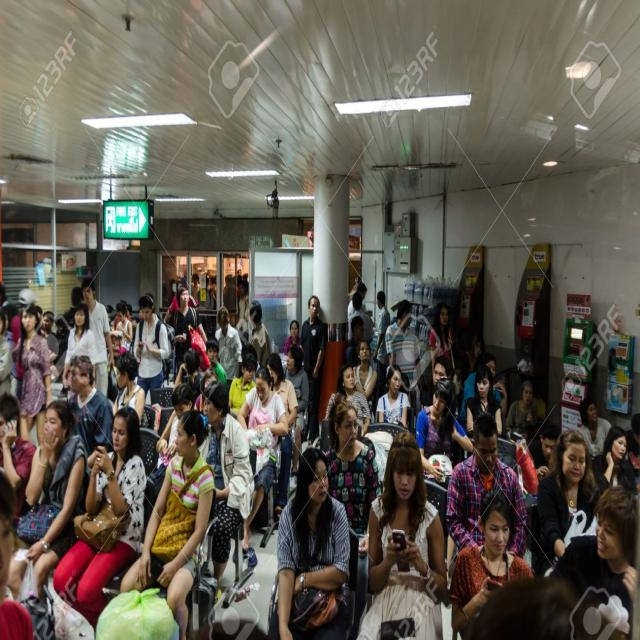body: (118, 408, 216, 639), (51, 404, 148, 631), (356, 429, 449, 640), (264, 444, 352, 640), (9, 398, 89, 602), (322, 394, 382, 640), (546, 482, 639, 640), (447, 486, 539, 640), (445, 411, 528, 558), (197, 379, 252, 590), (234, 364, 287, 556), (534, 429, 602, 577), (468, 556, 571, 639), (264, 351, 300, 523), (160, 266, 251, 329), (0, 472, 34, 640), (66, 354, 116, 467), (0, 389, 39, 528), (415, 376, 462, 491), (16, 302, 53, 446), (384, 298, 422, 431), (132, 290, 175, 406), (81, 276, 116, 403), (167, 283, 210, 386), (300, 294, 327, 450), (284, 342, 310, 492), (155, 381, 196, 475), (458, 351, 508, 425), (324, 363, 372, 439), (10, 286, 40, 402), (591, 424, 638, 497), (62, 303, 99, 389), (464, 364, 504, 436), (112, 350, 146, 430), (214, 306, 243, 390), (373, 288, 392, 406), (376, 363, 411, 427), (352, 338, 378, 422), (578, 397, 612, 460), (0, 284, 19, 395), (428, 301, 454, 380), (227, 352, 258, 418), (161, 278, 202, 324), (505, 379, 539, 434), (171, 349, 204, 404), (55, 286, 83, 350), (528, 422, 560, 476), (248, 299, 272, 369), (346, 291, 374, 347), (102, 300, 145, 336), (112, 301, 134, 359), (192, 368, 220, 412), (624, 412, 640, 484), (205, 335, 227, 384), (42, 310, 61, 366), (344, 315, 364, 367), (463, 331, 488, 369), (346, 280, 369, 321), (432, 354, 453, 392), (283, 319, 302, 356), (236, 340, 258, 362), (347, 272, 362, 298)
